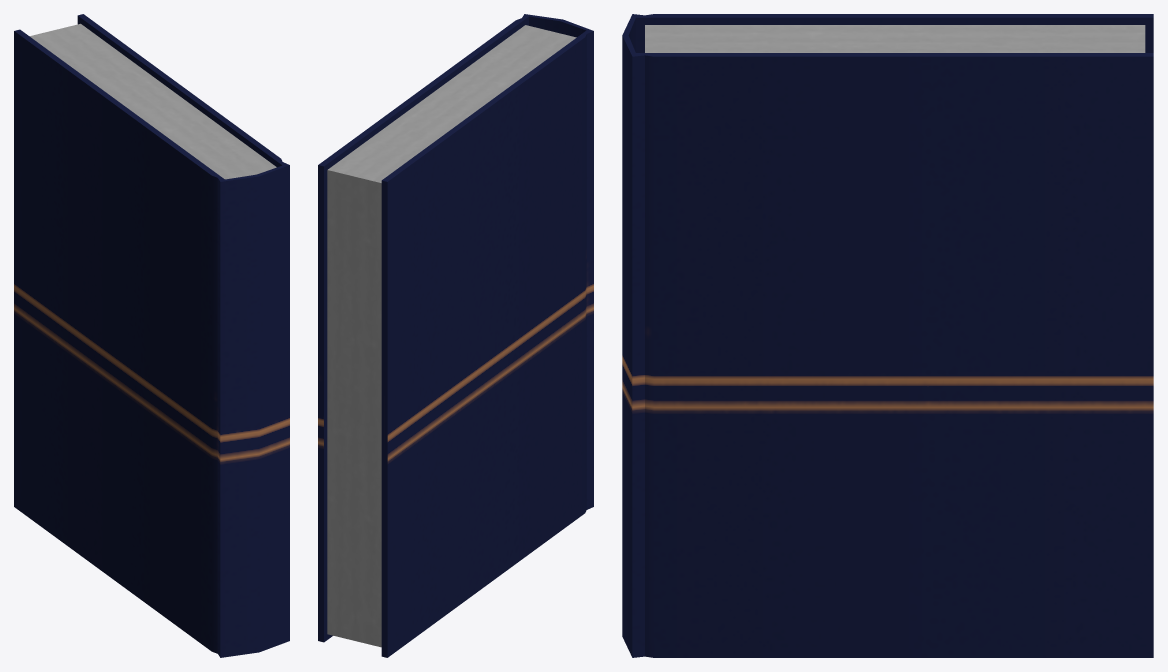
File: Prop_Books_5.fbx
3 renders of one model, left to right at view 1: azimuth 30°, elevation 25°; view 2: azimuth 150°, elevation 25°; view 3: azimuth 270°, elevation 25°, orthographic. The views are drawn at different scales.
Visible parts, largest first — view 1: Prop_Books_5; view 2: Prop_Books_5; view 3: Prop_Books_5.
Part boxes in pixels (box(x1,y1,x2,y2)): Prop_Books_5: box(14, 14, 289, 657); Prop_Books_5: box(318, 14, 593, 657); Prop_Books_5: box(622, 14, 1153, 657).
Size of the model in its own units: 0.0253 by 0.1658 by 0.1328.
